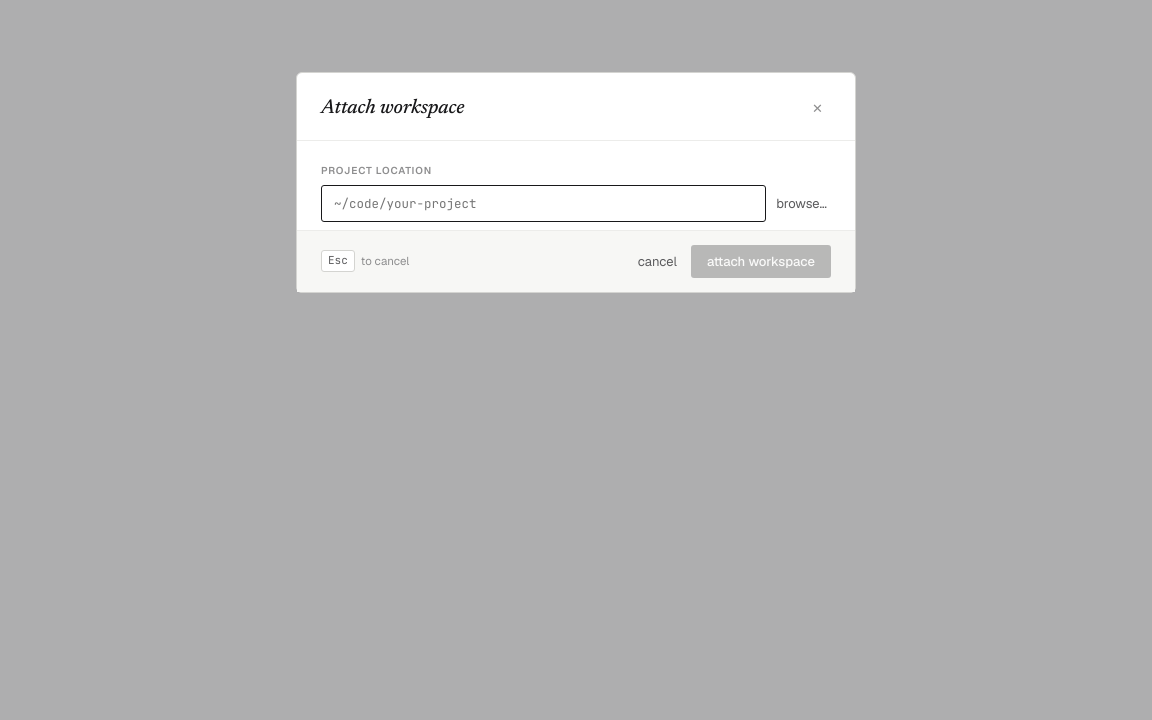
Test: SPEC-ui-014 — dialog collects name and description fields › SPEC-ui-014: name auto-derives from the path basename and a description field appears
Type "/code/my-cool-repo" into the field with placeholder "~/code/your-project" at (544, 203), box x1=321 y1=184 x2=766 y2=222
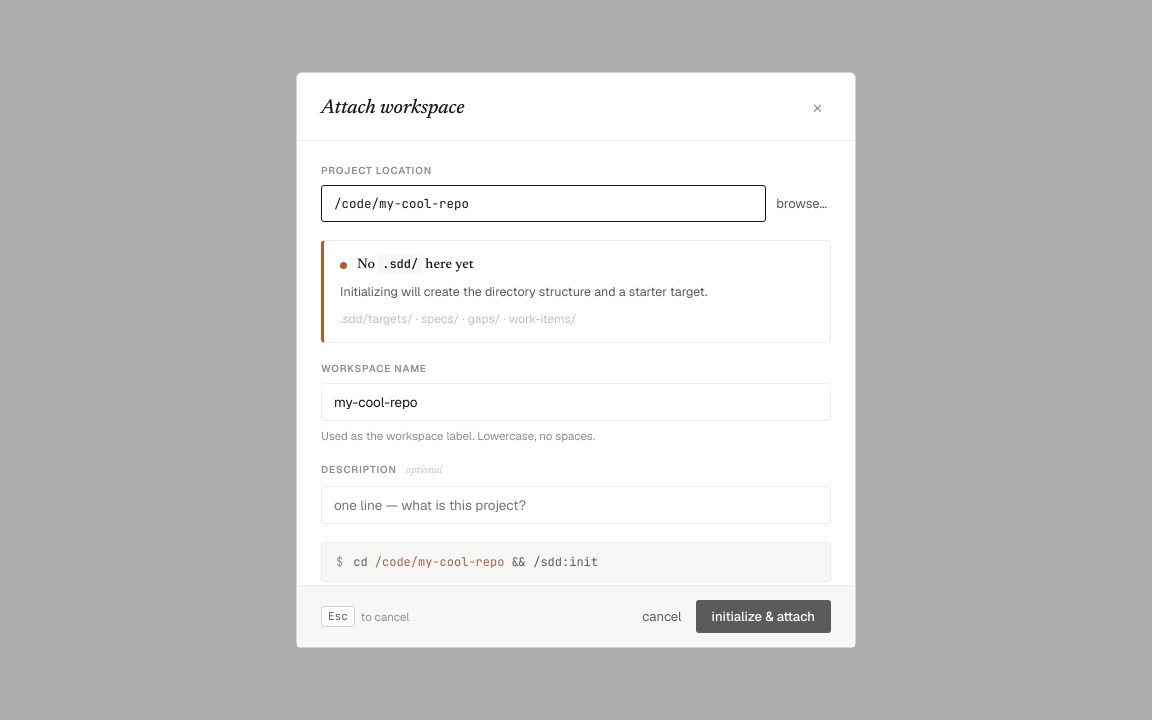
Expected: the field below "Workspace name" holds "my-cool-repo", x1=321 y1=383 x2=831 y2=421
Expected: the field with placeholder "one line — what is this project?" is shown, x1=321 y1=486 x2=831 y2=524
